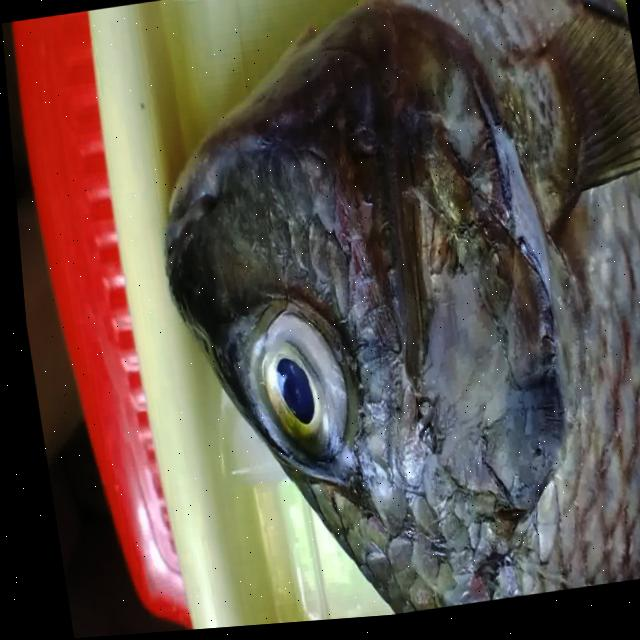Fresh: (212, 256, 380, 514)
